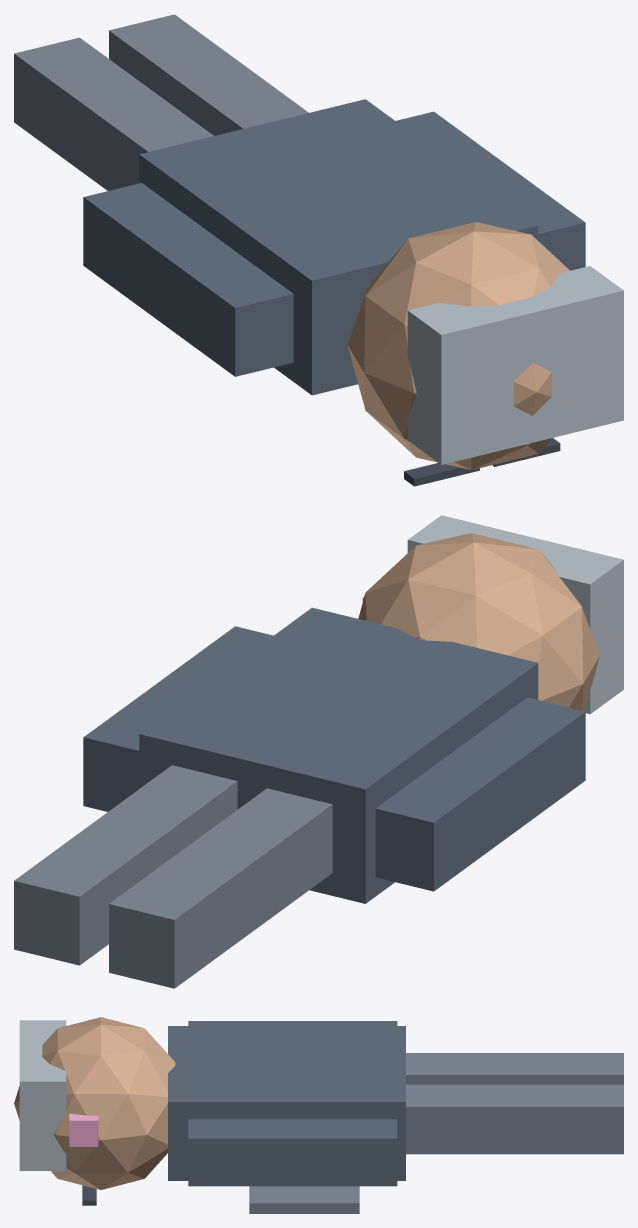
File: legal_variant_2.glb
3 views of the same model, one above another, from view 1: azimuth 30°, elevation 25°; view 2: azimuth 150°, elevation 25°; view 3: azimuth 270°, elevation 25° (orthographic). The views are drawn at different scales.
Visible parts, largest first — view 1: torso_2, hair_6, arm_l_3, head_5, leg_l_0, leg_r_1, arm_r_4, glasses_l_10; view 2: torso_2, leg_l_0, arm_l_3, head_5, leg_r_1, arm_r_4, hair_6; view 3: torso_2, head_5, leg_r_1, arm_r_4, leg_l_0, hair_6, tablet_9, arm_l_3, earring_or_badge_12.
Part boxes in pixels (x1,y1,x2,y2): torso_2: (139,99,538,395); hair_6: (407,266,623,464); arm_l_3: (83,183,293,376); head_5: (347,222,569,469); leg_l_0: (14,37,213,190); leg_r_1: (109,14,308,135); arm_r_4: (396,111,585,270); glasses_l_10: (404,463,479,486); torso_2: (139,607,538,903); leg_l_0: (109,788,332,988); arm_l_3: (375,697,585,891); head_5: (358,533,599,711); leg_r_1: (14,765,237,965); arm_r_4: (83,626,273,811); hair_6: (407,515,623,714); torso_2: (168,1026,405,1180); head_5: (14,1017,175,1189); leg_r_1: (406,1084,623,1154); arm_r_4: (188,1119,397,1186); leg_l_0: (406,1053,623,1084); hair_6: (19,1020,66,1170); tablet_9: (249,1186,359,1213); arm_l_3: (188,1021,397,1025); earring_or_badge_12: (69,1113,98,1146).
Size of the model in its own units: 0.96 by 0.6 by 2.1.
